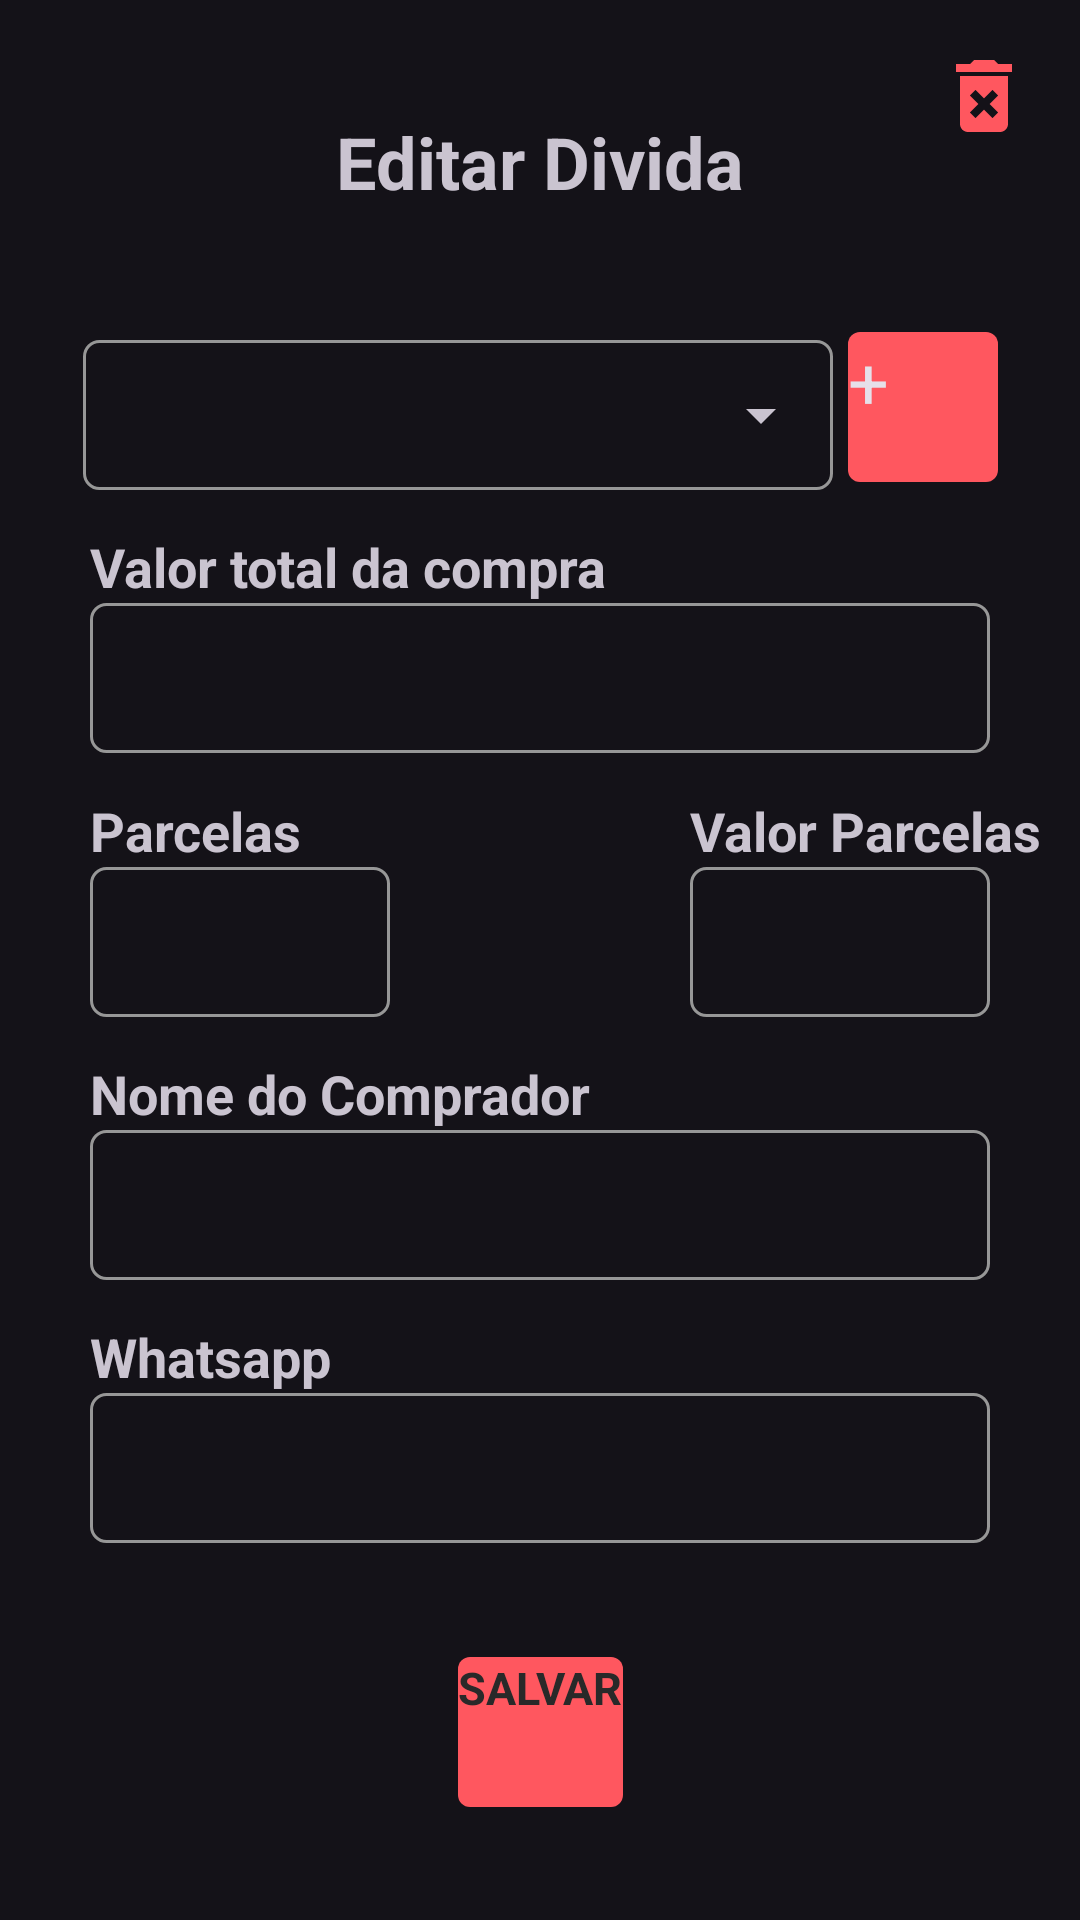

Locate icon controls on the screen. Image size 1080 x 1920, boxes as [x1, y1, x2, y2].
Botão de excluir divida: [956, 60, 1012, 132]
